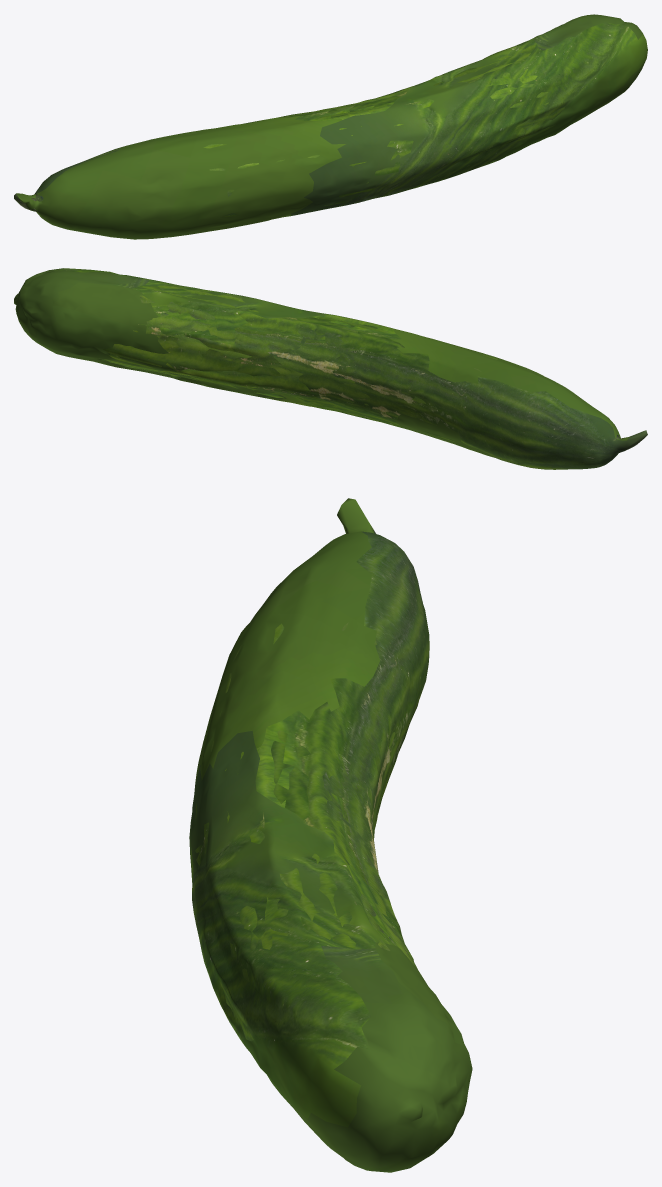
The model's file is 3DCucumber001_LQ-1K-JPG.obj.
3 renders of one model, top to bottom at view 1: azimuth 30°, elevation 25°; view 2: azimuth 150°, elevation 25°; view 3: azimuth 270°, elevation 25°, orthographic. The views are drawn at different scales.
Visible parts, largest first — view 1: 3DCucumber001_SQ-4K-PNG.obj_3DCucumber001_SQ-4K-PNG, 3DCucumber001_LQ-1K-JPG; view 2: 3DCucumber001_SQ-4K-PNG.obj_3DCucumber001_SQ-4K-PNG, 3DCucumber001_LQ-1K-JPG; view 3: 3DCucumber001_SQ-4K-PNG.obj_3DCucumber001_SQ-4K-PNG, 3DCucumber001_LQ-1K-JPG.
Part boxes in pixels (bbox=[...]): 3DCucumber001_SQ-4K-PNG.obj_3DCucumber001_SQ-4K-PNG: bbox=[14, 14, 647, 239]; 3DCucumber001_LQ-1K-JPG: bbox=[31, 44, 564, 217]; 3DCucumber001_SQ-4K-PNG.obj_3DCucumber001_SQ-4K-PNG: bbox=[14, 268, 647, 469]; 3DCucumber001_LQ-1K-JPG: bbox=[102, 284, 622, 442]; 3DCucumber001_SQ-4K-PNG.obj_3DCucumber001_SQ-4K-PNG: bbox=[189, 498, 472, 1172]; 3DCucumber001_LQ-1K-JPG: bbox=[190, 622, 417, 1041].
Bounding box in the file's own units: 0.2962 × 0.0413 × 0.0586.
1 material, 1 textured.
